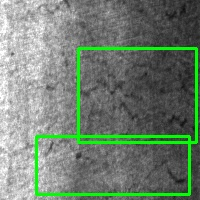crazing: (78, 48, 196, 142), (36, 136, 189, 194)
